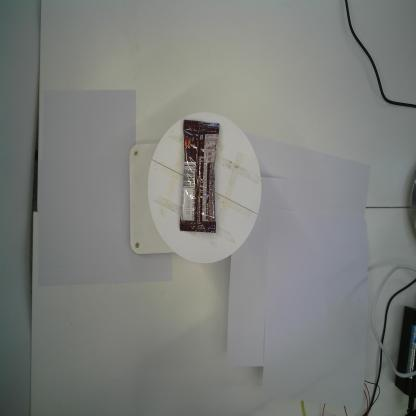Chocolate: (178, 116, 221, 235)
